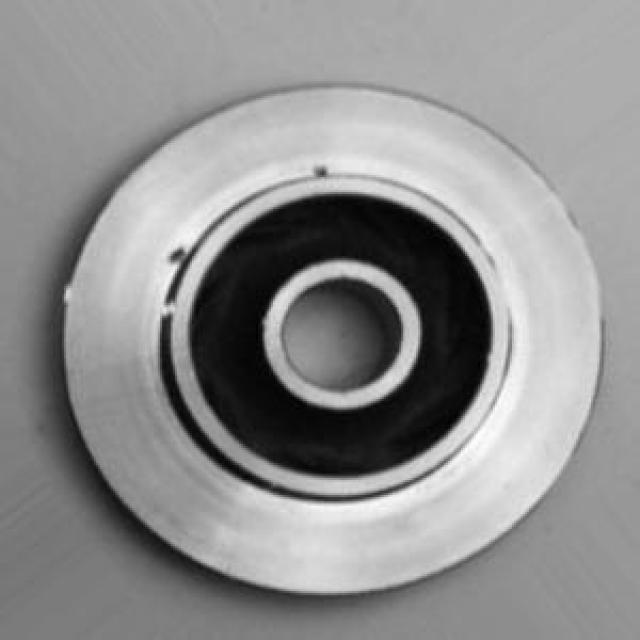Defect: (302, 155, 339, 187), (161, 239, 189, 273)
